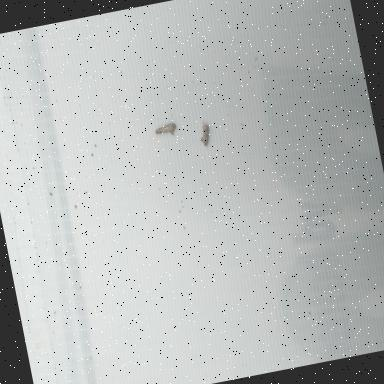pbw: (196, 122, 213, 150), (154, 122, 178, 139)
